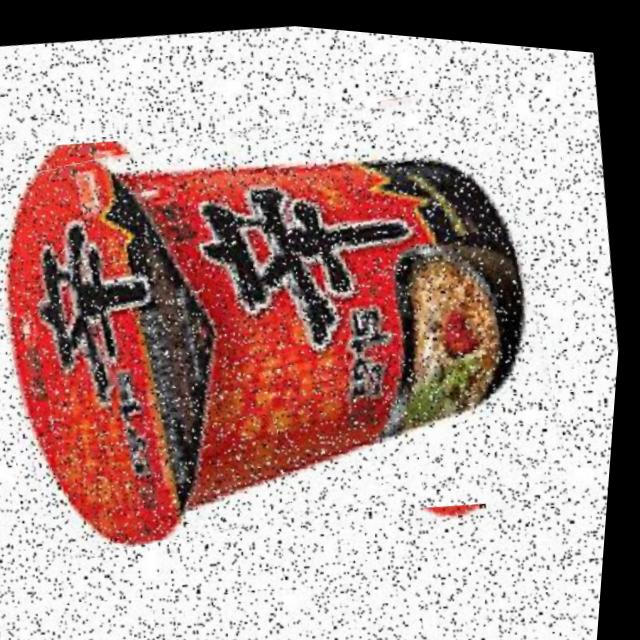Miscellaneous: (0, 47, 591, 588)
